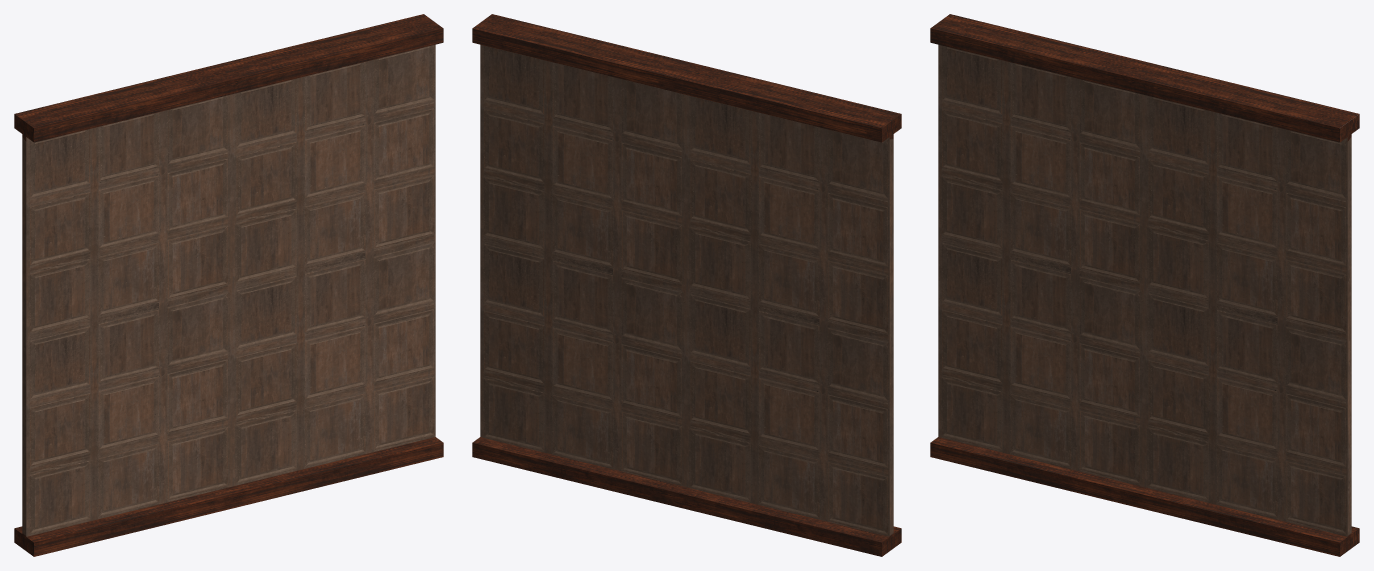
The model's file is wall_1 1.fbx.
3 renders of one model, left to right at view 1: azimuth 30°, elevation 25°; view 2: azimuth 150°, elevation 25°; view 3: azimuth 330°, elevation 25°, orthographic.
Parts seen in each view (by area): view 1: CORNER2_sy; view 2: CORNER2_sy; view 3: CORNER2_sy.
Boxes of the visible parts, box(x1,y1,x2,y2) form: CORNER2_sy: box(14, 14, 443, 556); CORNER2_sy: box(472, 14, 901, 556); CORNER2_sy: box(930, 14, 1359, 556).
Size of the model in its own units: 300 by 300 by 25.
